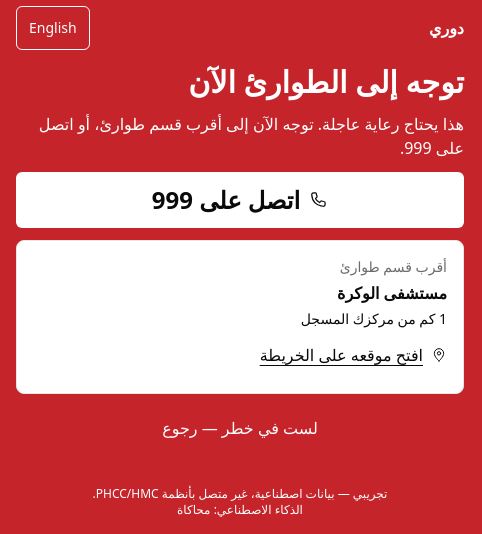
it: S06 emergency › renames it with the toggle
Click the button with test id "language-toggle". click: (53, 28)
box: [16,6,90,50]
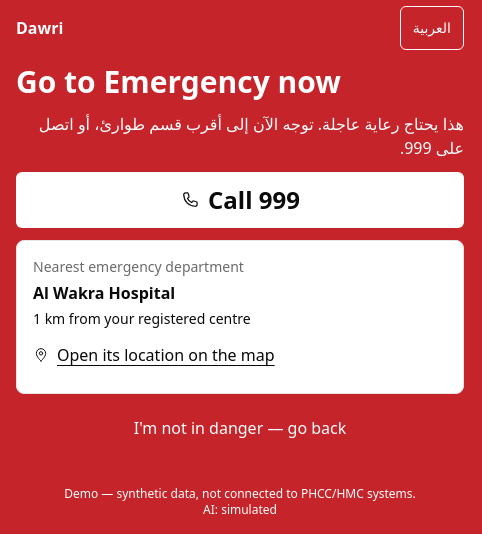
Result: the element with test id "emergency-nearest" shows "Al Wakra Hospital" at [33,282,175,304]
Result: the heading "Go to Emergency now" is shown at [16,61,341,102]
Result: the link with test id "emergency-call" reads "Call 999" at [16,172,464,228]
